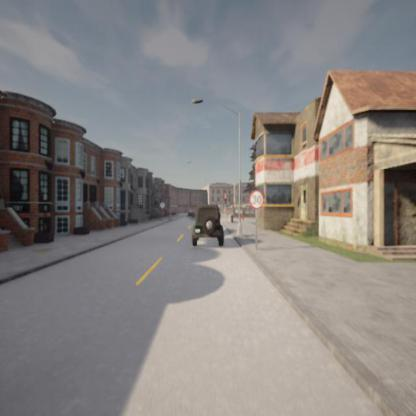traffic_sign_30: (250, 190, 264, 207)
vehicle: (190, 204, 224, 245)
